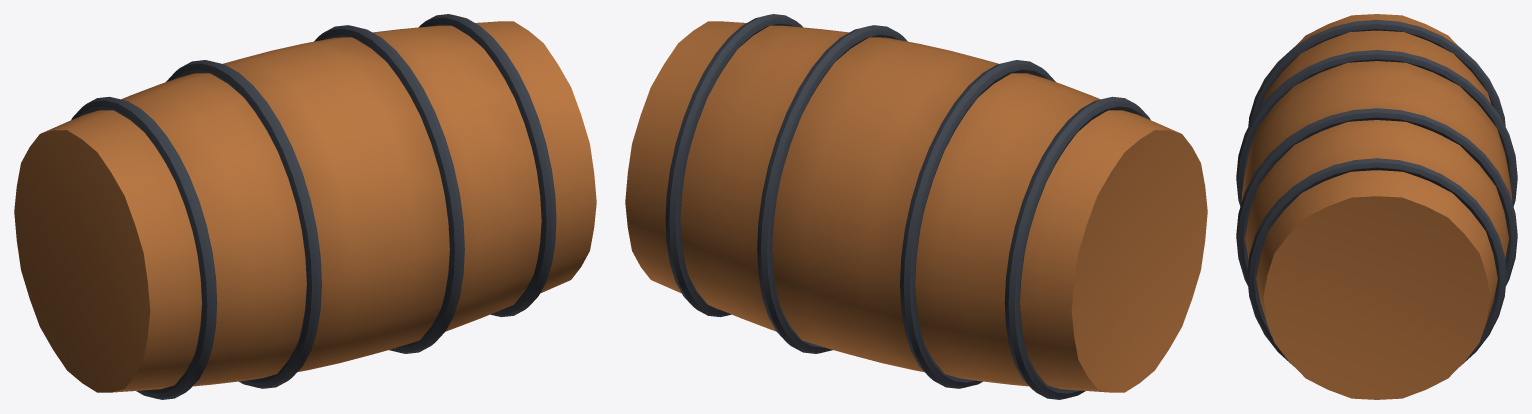
The model's file is vl_barrel.glb.
3 views of the same model, side by side, from view 1: azimuth 30°, elevation 25°; view 2: azimuth 150°, elevation 25°; view 3: azimuth 270°, elevation 25° (orthographic). The views are drawn at different scales.
Parts seen in each view (by area): view 1: barrel; view 2: barrel; view 3: barrel.
Part boxes in pixels (x1,y1,x2,y2): barrel: (14,14,596,399); barrel: (625,14,1207,399); barrel: (1236,14,1517,399).
Size of the model in its own units: 1.4 by 0.9146 by 0.9146.
